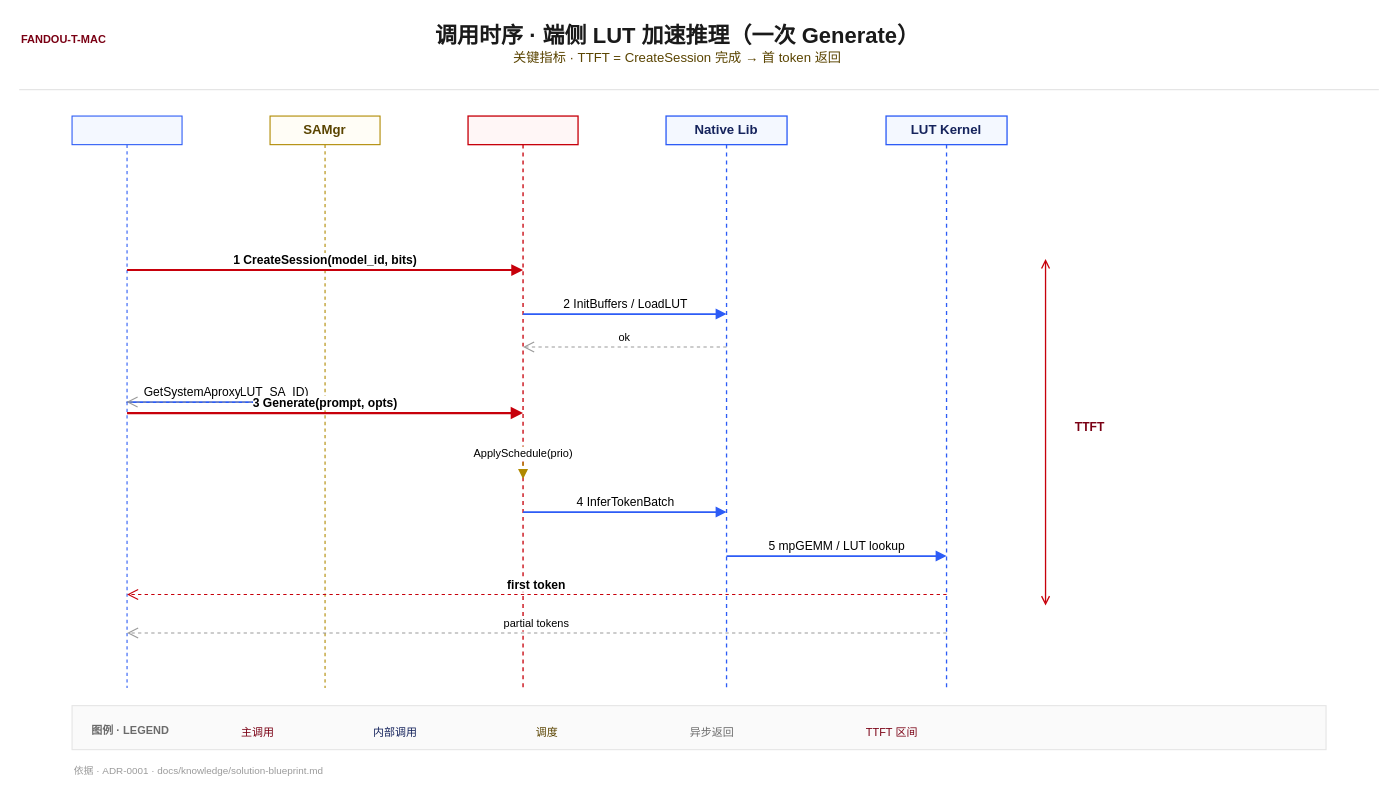
The diagram is 1399 pixels wide and 796 high, and some of its shapes have lost their labels. The box of each missing label's shape, as (x1, y1, x2, y2) in pixels:
Demo App: (71, 115, 182, 688)
LUT SA: (467, 115, 578, 688)
